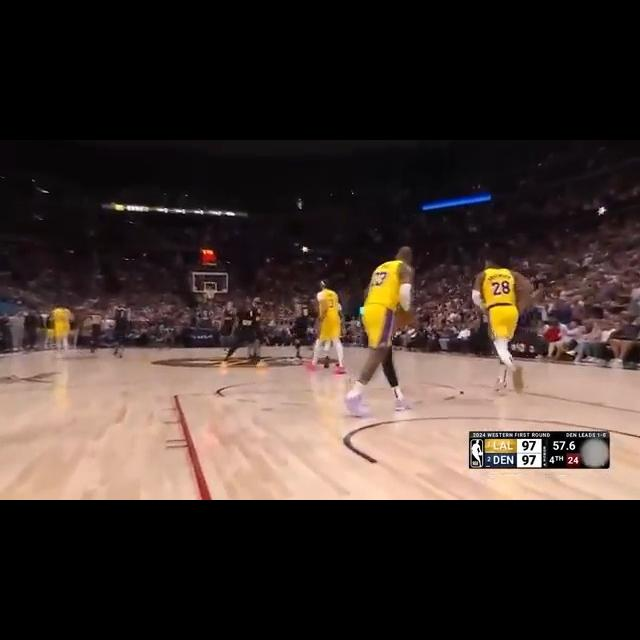basketball: (393, 311, 411, 328)
hoop: (204, 287, 218, 301)
